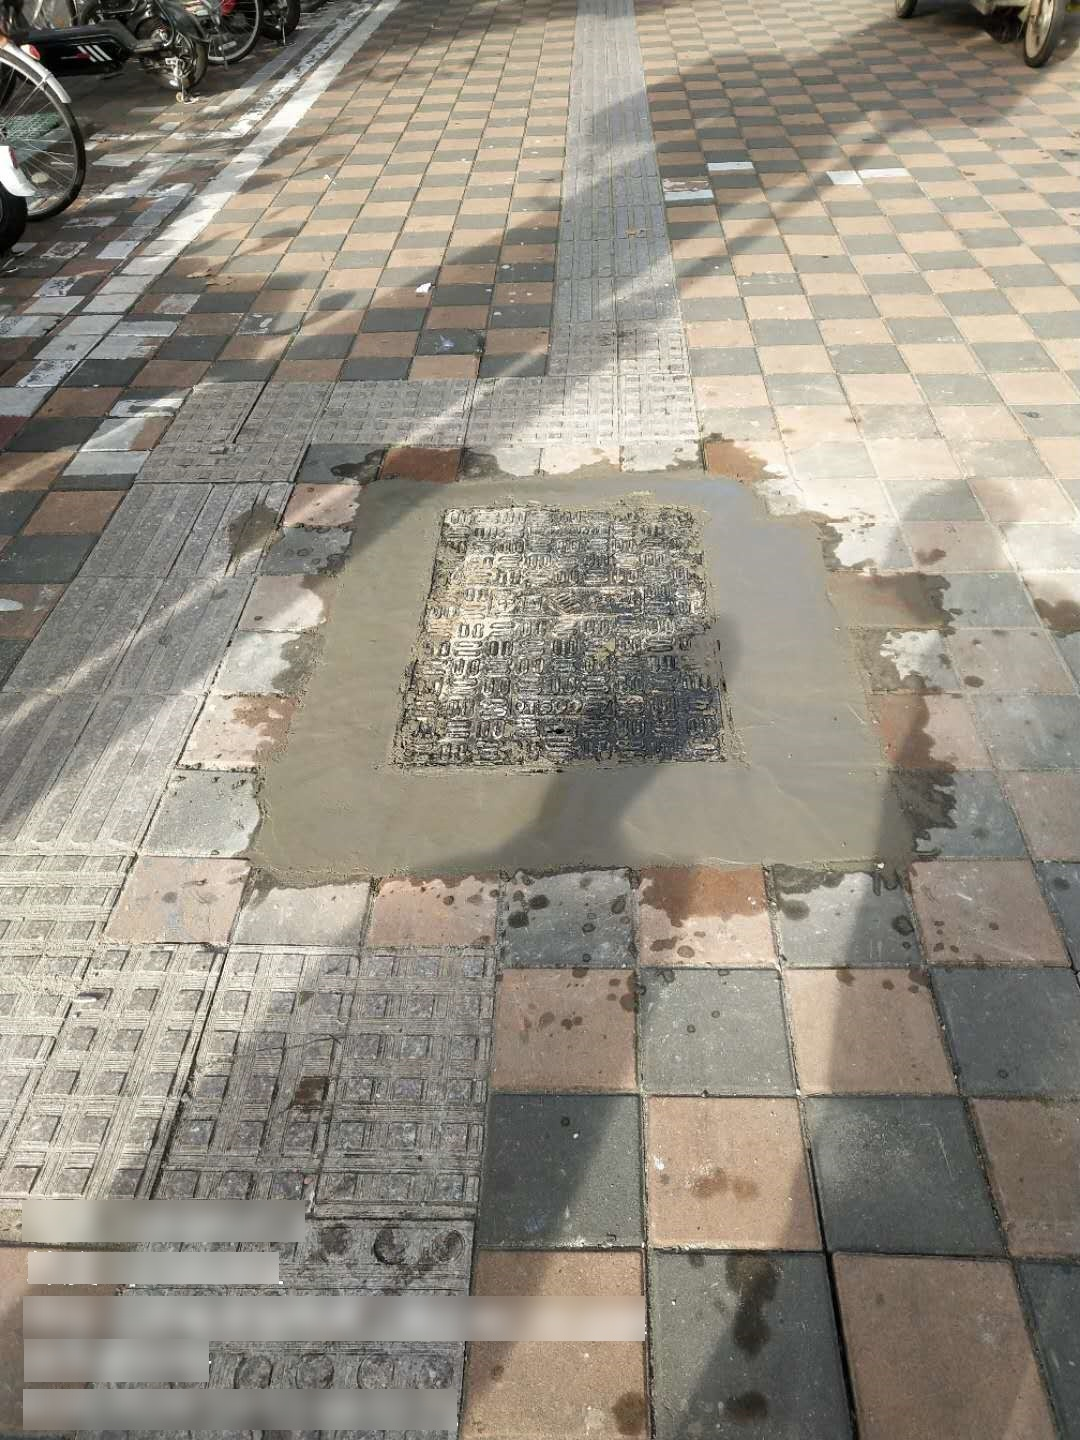good: (383, 498, 754, 772)
